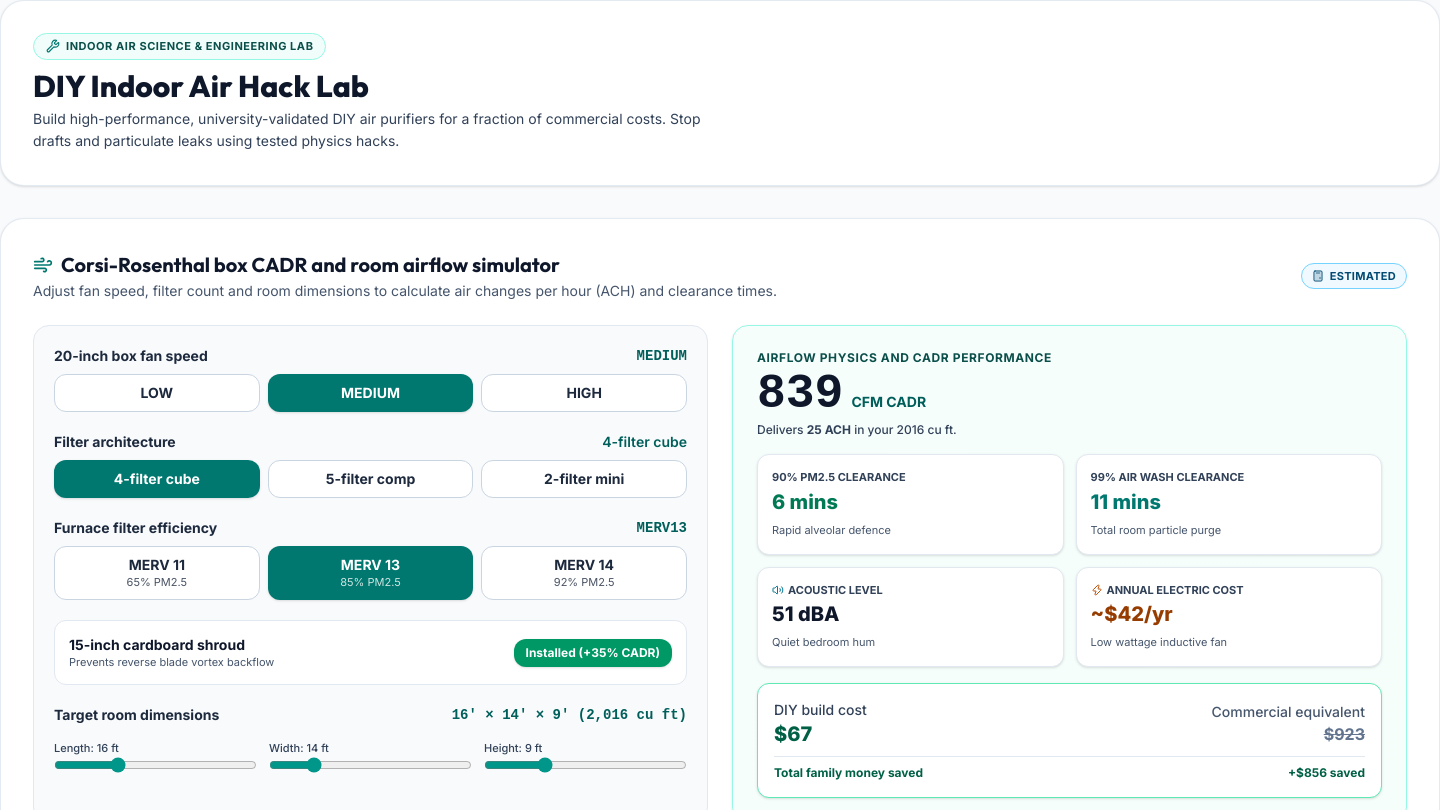
IAQHackLab › recomputes the room volume when a dimension changes
Set the slider labelled "Length: 16 ft" to "30". click: (249, 765)
box: [54,757,257,773]
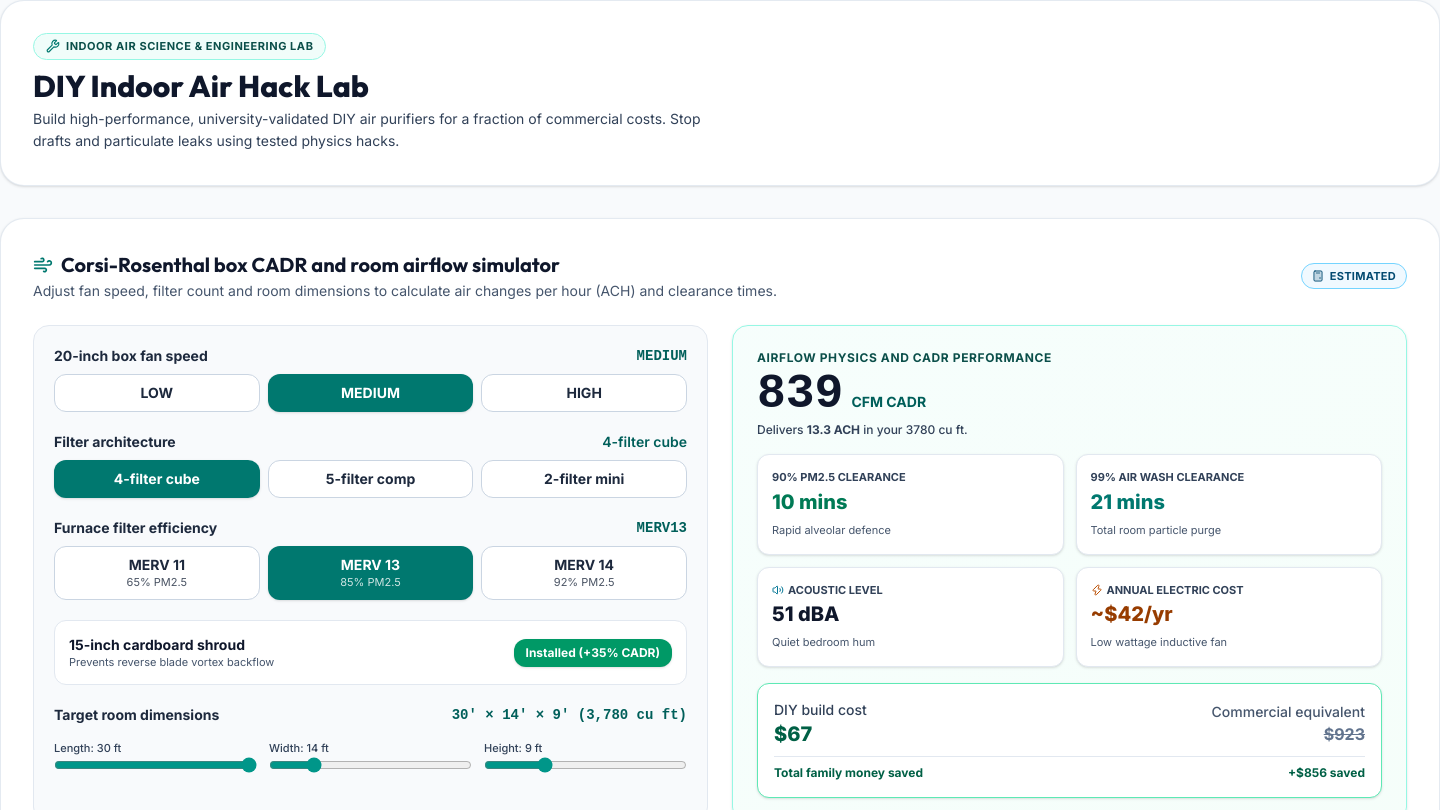
Expected: the text "30' × 14' × 9' (3,780 cu ft)" is shown, [452,705,687,725]
